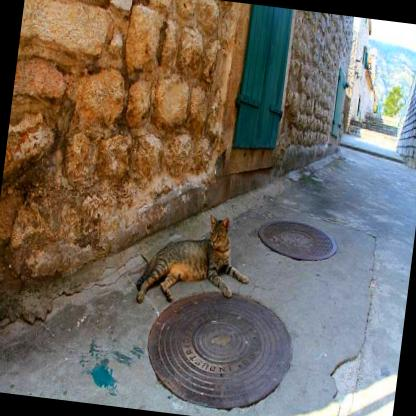manholes: (128, 253, 322, 416), (232, 184, 379, 300)
